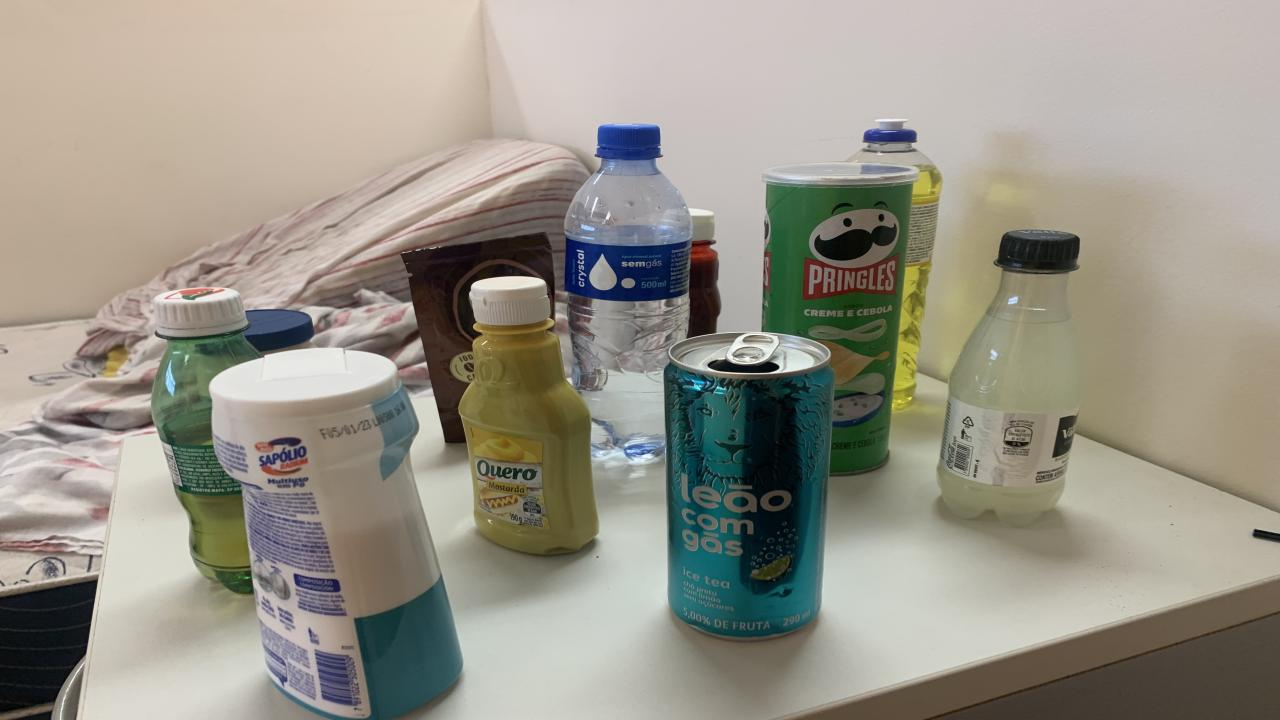Cleaner-Cleanup_Items: (210, 349, 462, 718)
Coffee-Pantry_Items: (402, 232, 555, 442)
Detergent-Cleanup_Items: (852, 120, 942, 409)
Guarana-Drinks: (152, 287, 260, 594)
Ketchup-Pantry_Items: (688, 208, 722, 338)
Mayonnaise-Pantry_Items: (245, 309, 315, 354)
Mustard-Pantry_Items: (458, 276, 598, 555)
Pringles-Snacks: (762, 163, 920, 474)
Soda-Drinks: (938, 231, 1082, 525)
Tea-Drinks: (665, 334, 832, 639)
Water_Bottle-Drinks: (565, 124, 692, 461), (565, 124, 692, 456)
